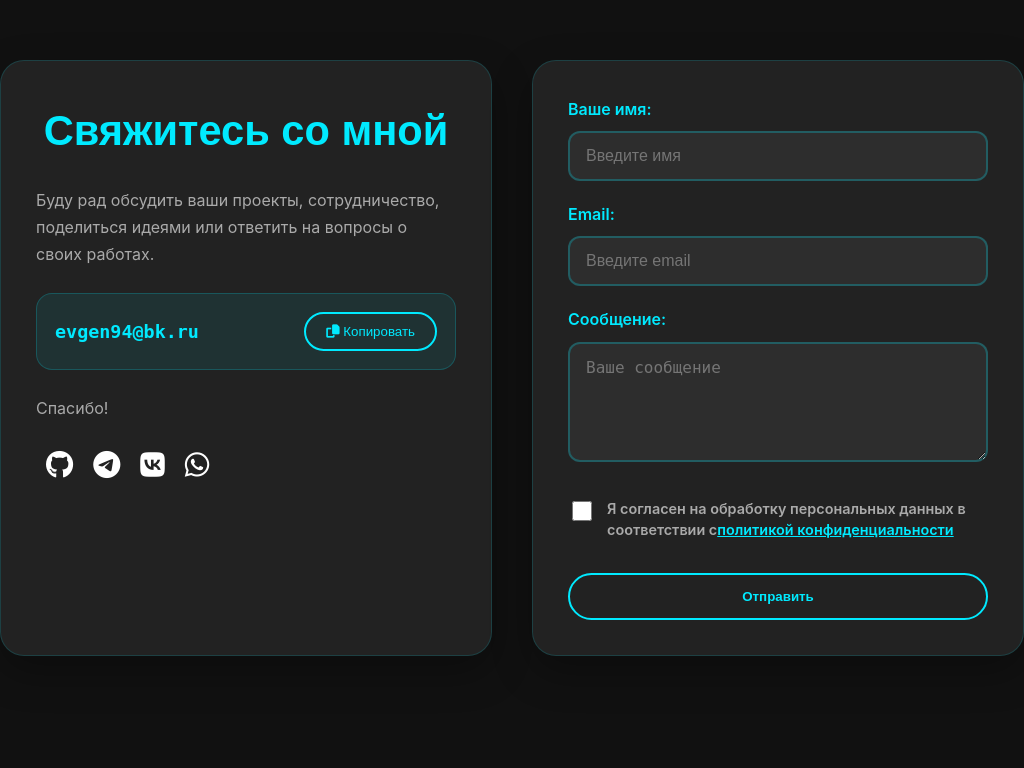
Test: Contacts › displays error message if form submitted without checkbox
This screenshot has width=1024, height=768.
Type "Тест" into the field labelled "Ваше имя:" at (778, 156), box [568,131,988,181]
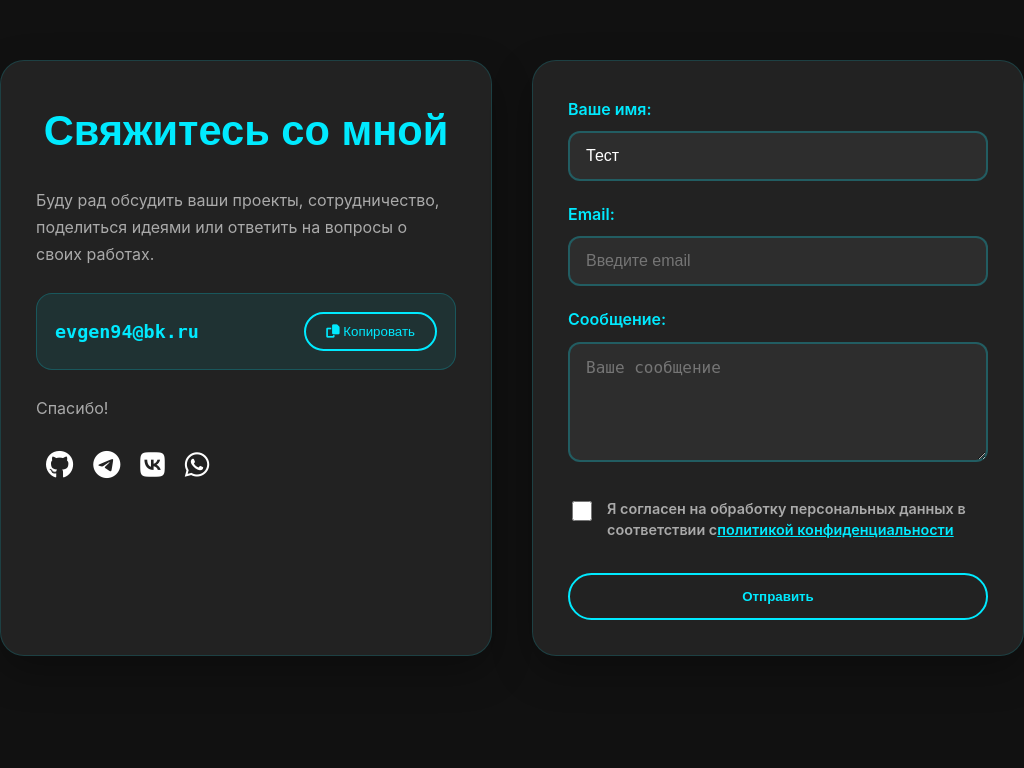
Type "test@example.com" into the field labelled "Email:" at (778, 261), box [568,236,988,286]
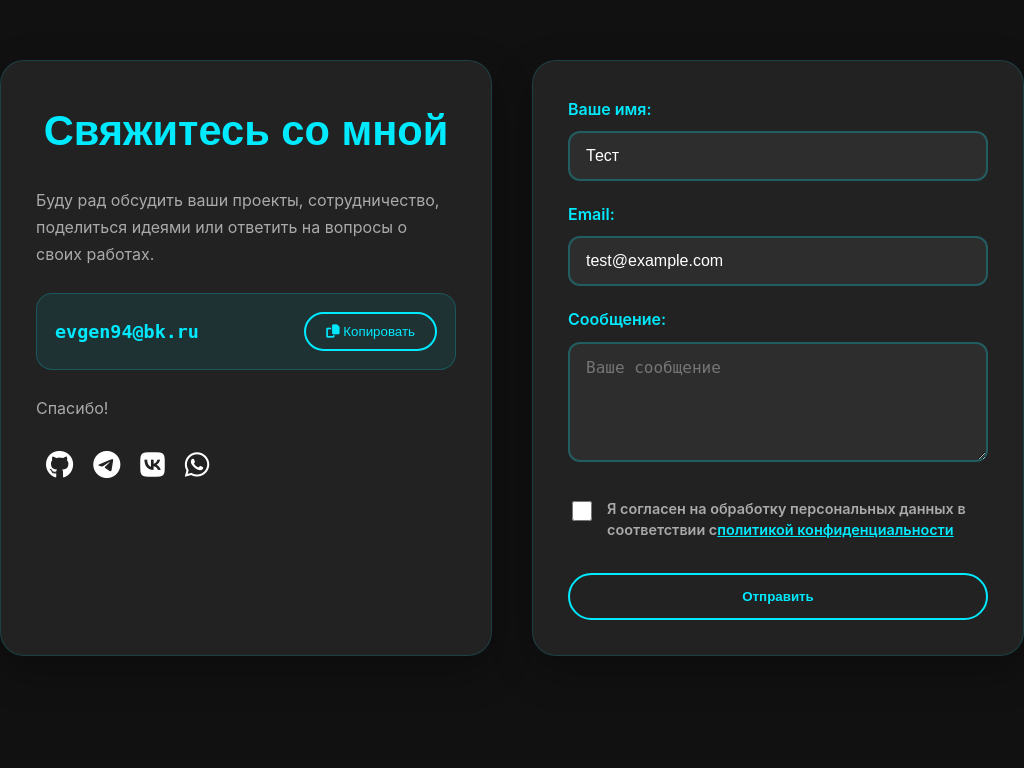
Type "Тестовое сообщение" into the text box labelled "Сообщение:" at (778, 402), box [568,342,988,462]
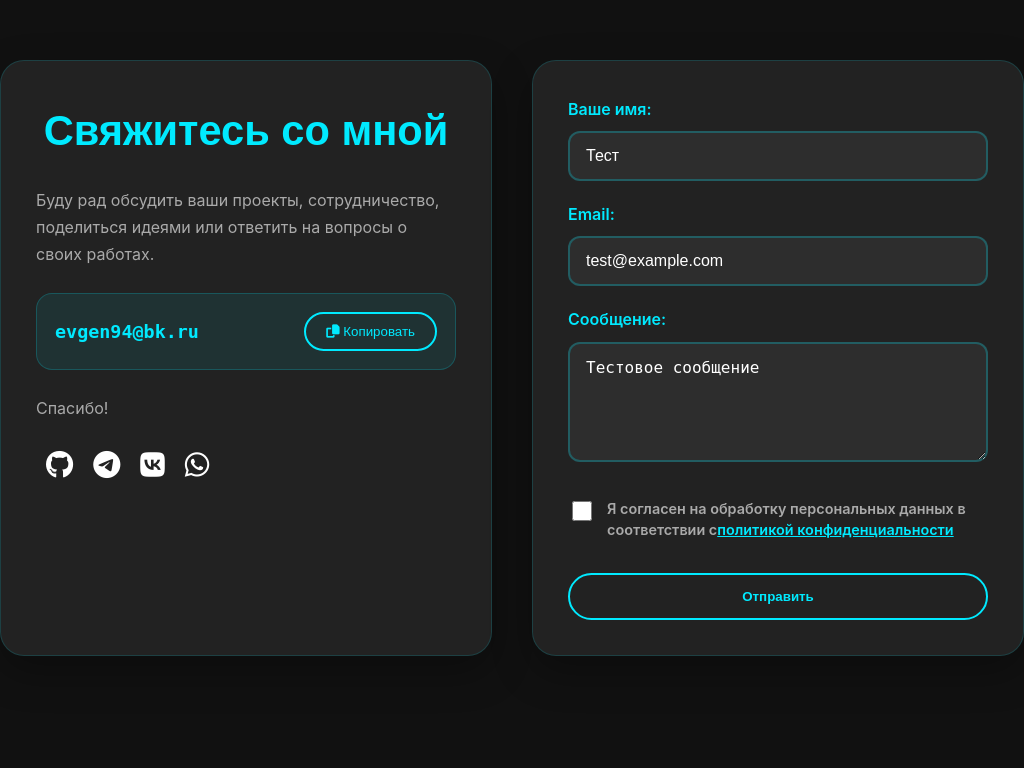
Click the button "Отправить" at (778, 596), box [568,573,988,620]
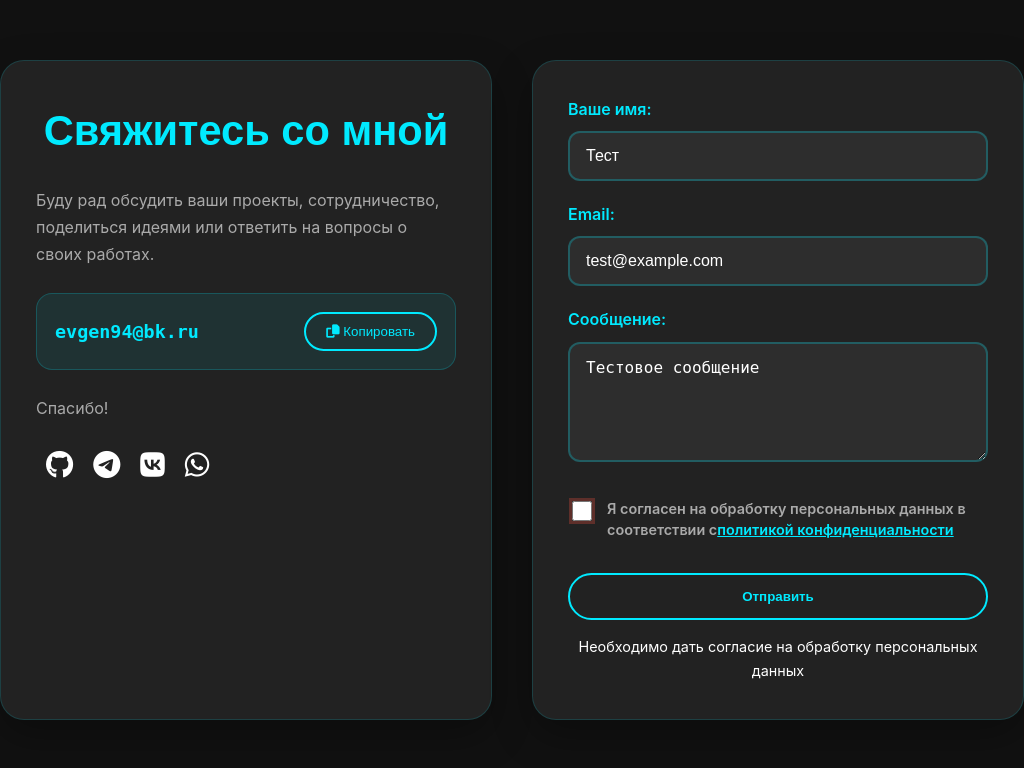
Now the text "Необходимо дать согласие на обработку персональных данных" is shown, box [568,635,988,684]
